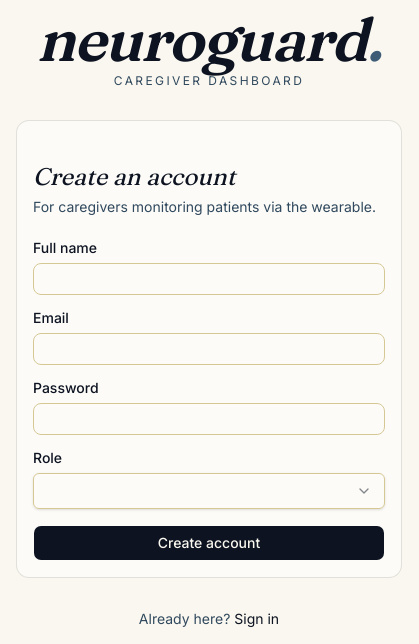
Scenario: SignupPage › switches to the verify-email view when no session is returned
Type "X" into the field labelled "Full name" at x=209, y=279, box [33,263,385,295]
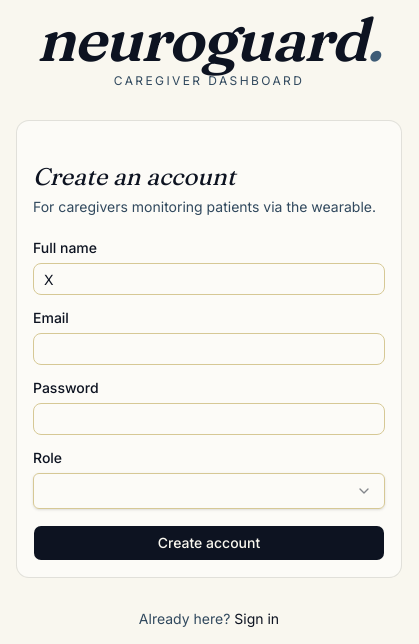
Type "verify@example.com" into the field labelled "Email" at x=209, y=349, box [33,333,385,365]
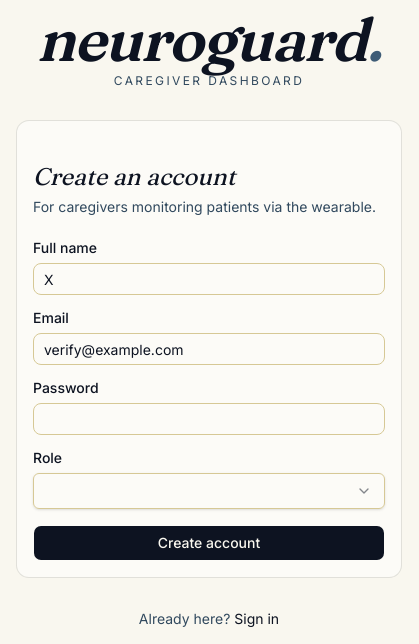
Type "pass1234" into the password field labelled "Password" at x=209, y=419, box [33,403,385,435]
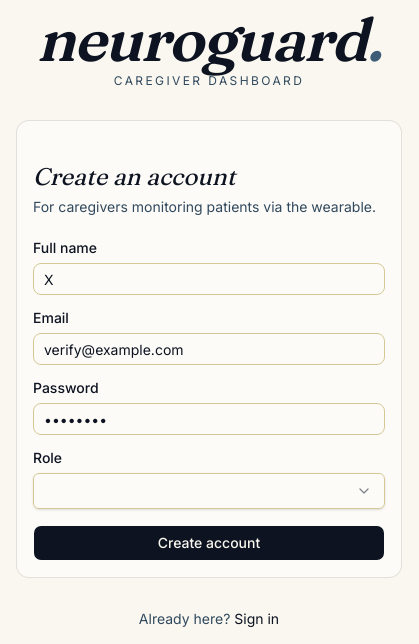
Click the button "Create account" at x=209, y=543, box [33,525,385,561]
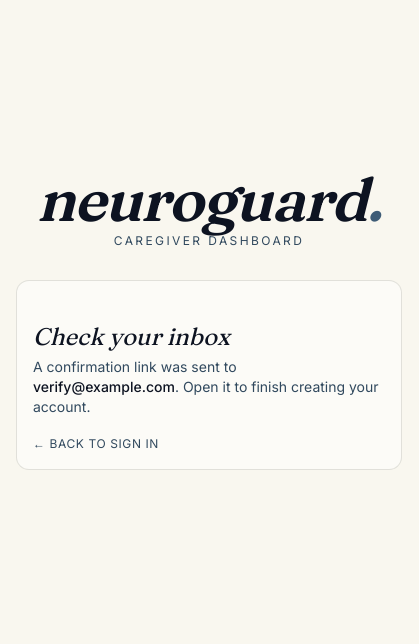
Now the heading "Check your inbox" is shown, box [33,322,230,351]
Now the text "verify@example.com" is shown, box [33,378,175,395]
